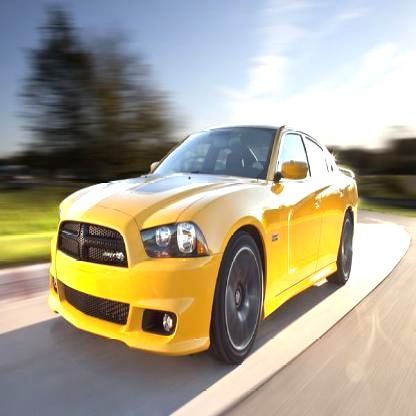Vehicle: (47, 120, 361, 368)
